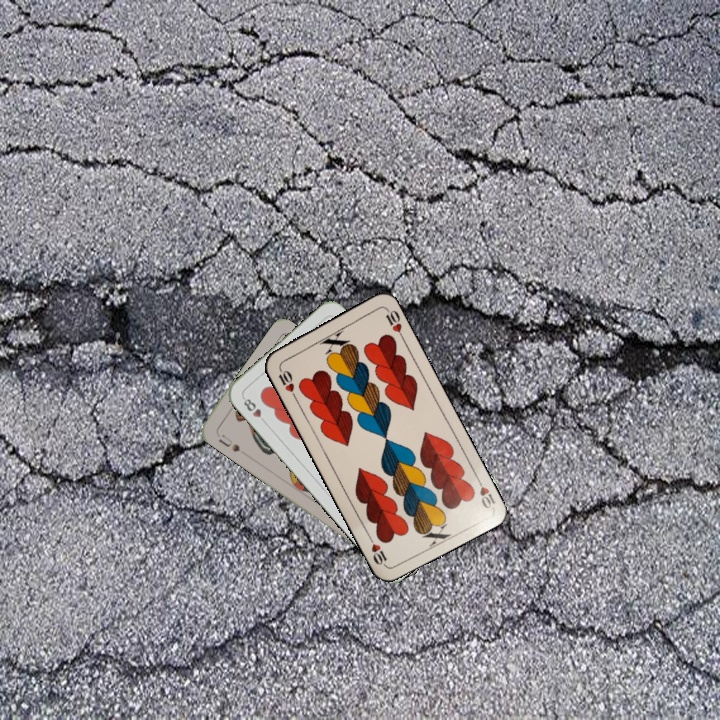H10: (472, 472, 498, 511), (274, 363, 299, 401)
H8: (239, 393, 269, 427)
SU: (213, 429, 243, 455)
